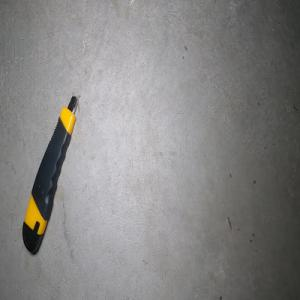Cutter: (21, 94, 78, 254)
